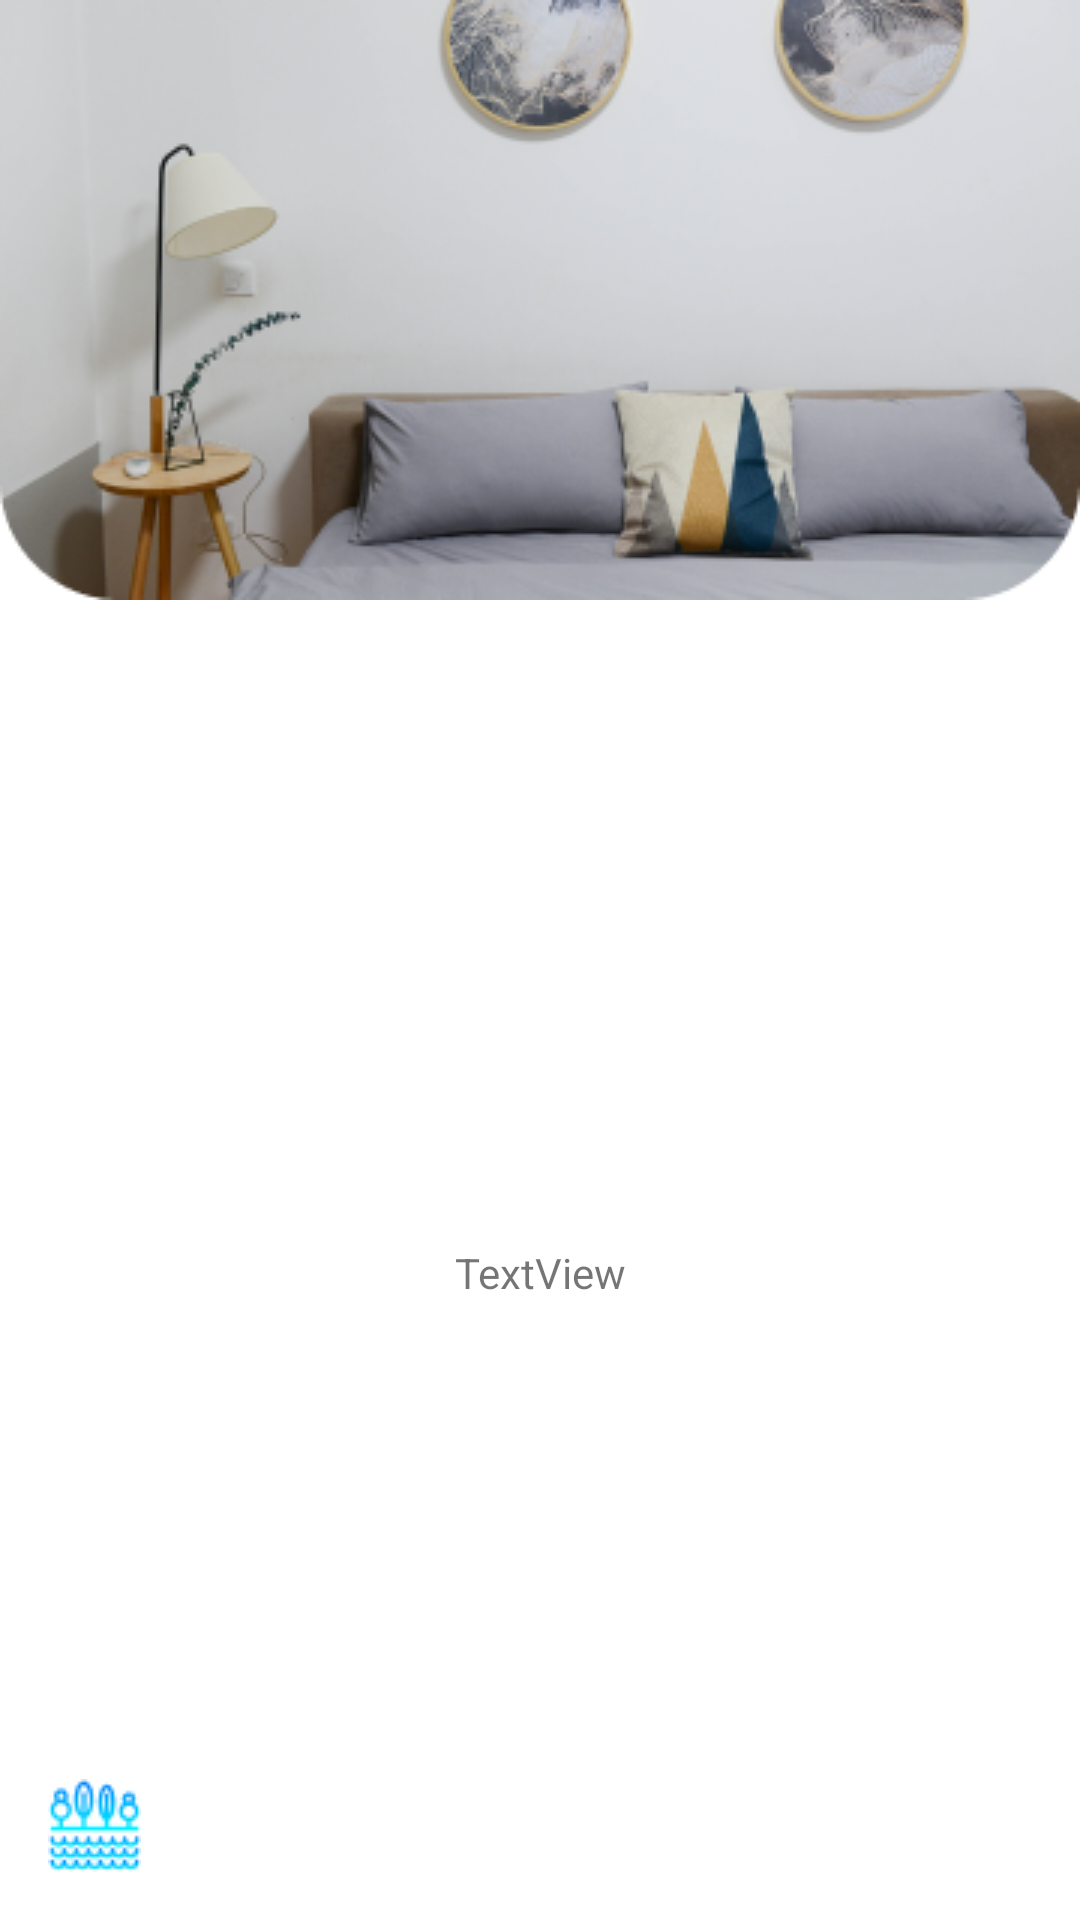

Locate icon controls on the screen. Image size 1080px×1920px, boxes as detection(x1, y1, x2, y2).
agri: detection(48, 1779, 141, 1872)
